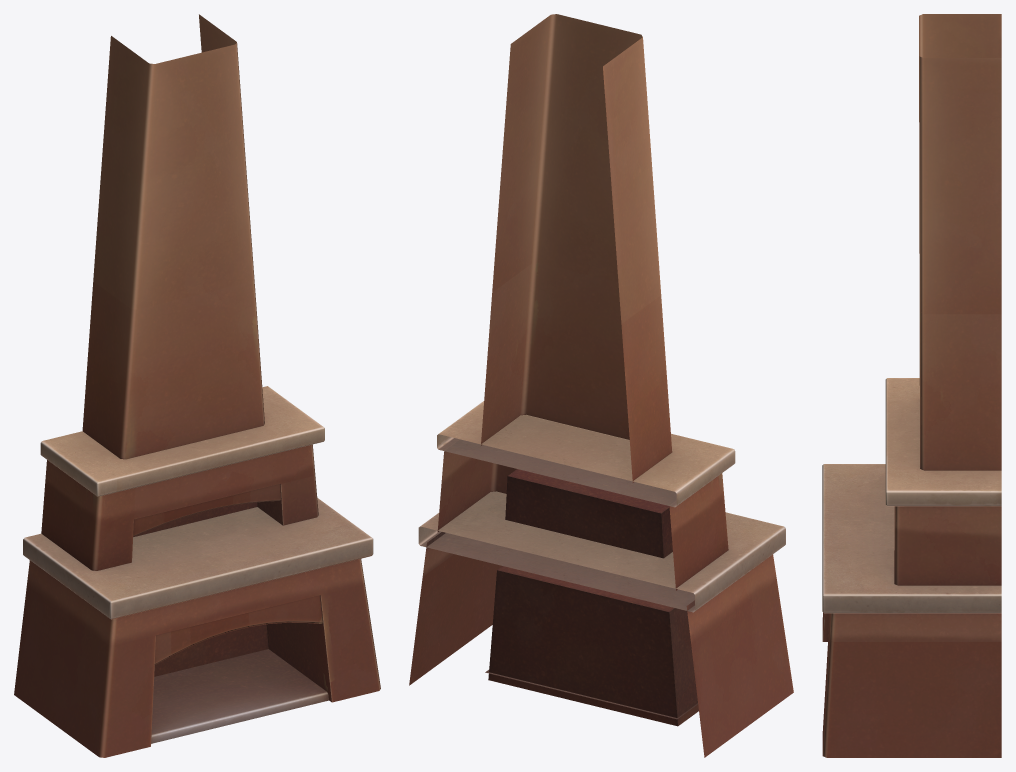
Rendered from SM_Chimney.fbx.
3 views of the same model, side by side, from view 1: azimuth 30°, elevation 25°; view 2: azimuth 150°, elevation 25°; view 3: azimuth 270°, elevation 25° (orthographic). The views are drawn at different scales.
Parts seen in each view (by area): view 1: SM_Chimney_LOD0; view 2: SM_Chimney_LOD0; view 3: SM_Chimney_LOD0.
Part boxes in pixels (box(x1,y1,x2,y2)): SM_Chimney_LOD0: box(14, 14, 380, 757); SM_Chimney_LOD0: box(409, 14, 793, 757); SM_Chimney_LOD0: box(822, 14, 1001, 757).
Size of the model in its own units: 151 by 81.14 by 325.
Materials: 1 (1 with a texture image).
